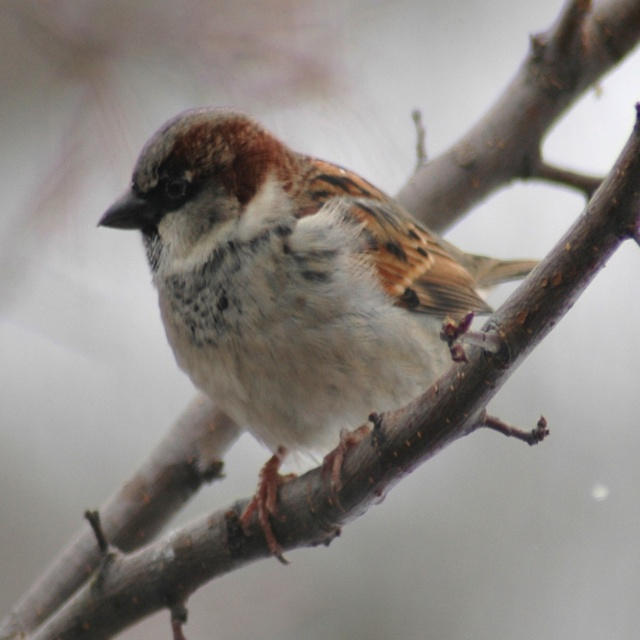Sparrow: (94, 102, 541, 564)
